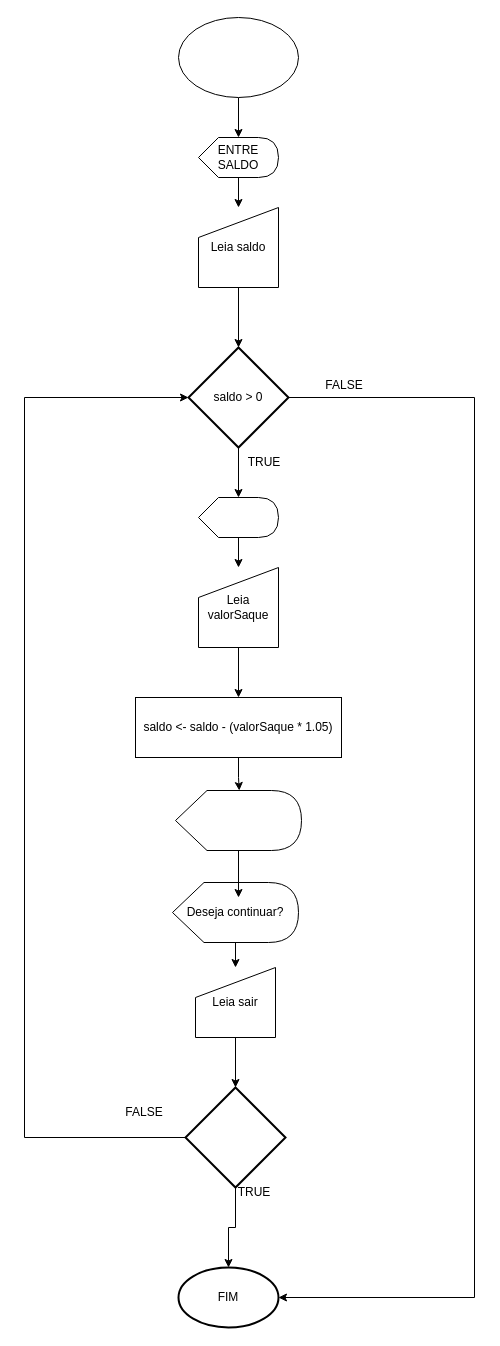
The diagram is 500 pixels wide and 1346 high, and some of its shapes have lost their labels. The centre of each missing label's shape, as x and y in pixels:
"Entre valor saque" goes at point 238,517.
"INICIO" goes at point 238,57.
"sair == 0" goes at point 235,1137.
"Saldo restante: , saldo" goes at point 238,820.
